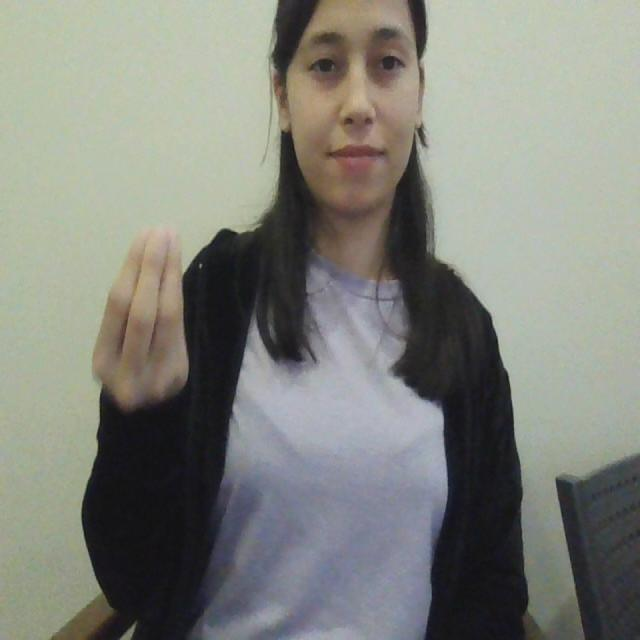iyi: (88, 217, 192, 418)
